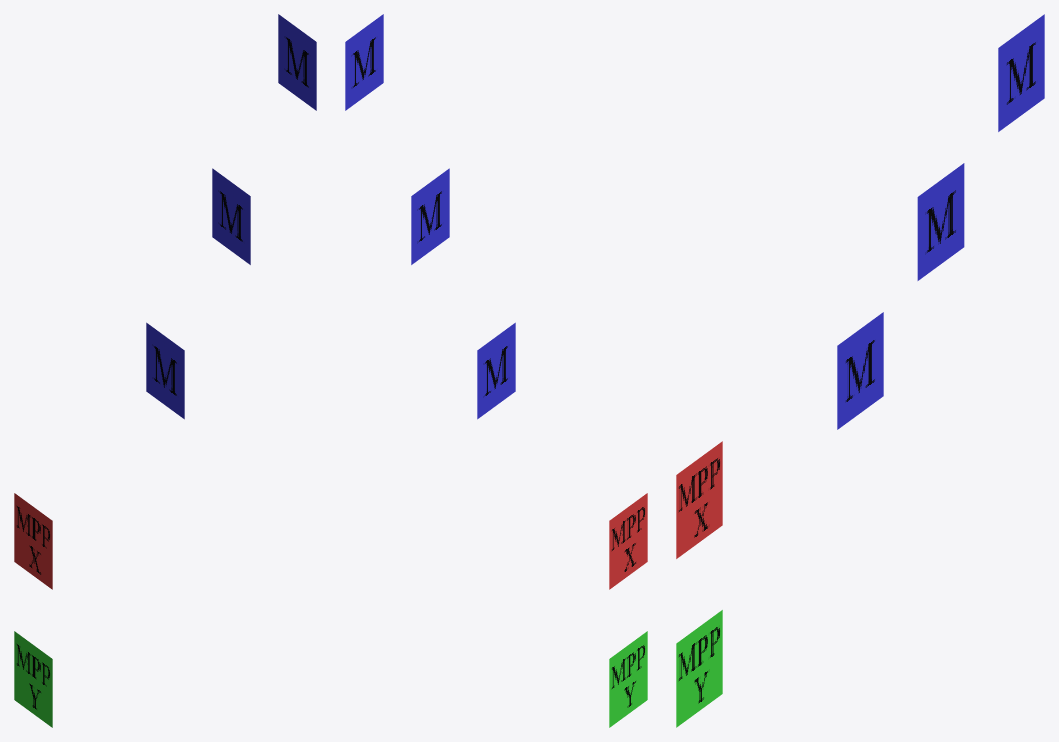
File: measurement_looping.gltf
3 views of the same model, side by side, from view 1: azimuth 30°, elevation 25°; view 2: azimuth 150°, elevation 25°; view 3: azimuth 330°, elevation 25° (orthographic). The views are drawn at different scales.
Size of the model in its own units: 4 by 9 by 1.
1 material, 1 textured.
